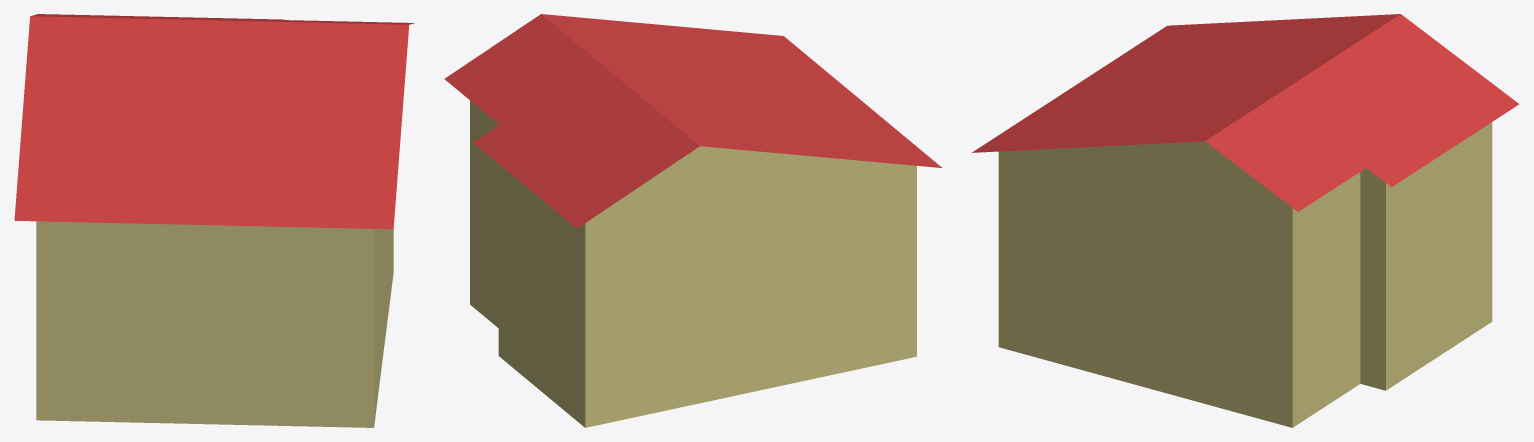
3 renders of one model, left to right at view 1: azimuth 30°, elevation 25°; view 2: azimuth 150°, elevation 25°; view 3: azimuth 270°, elevation 25°, orthographic. The views are drawn at different scales.
Size of the model in its own units: 19.68 by 21 by 11.52.
